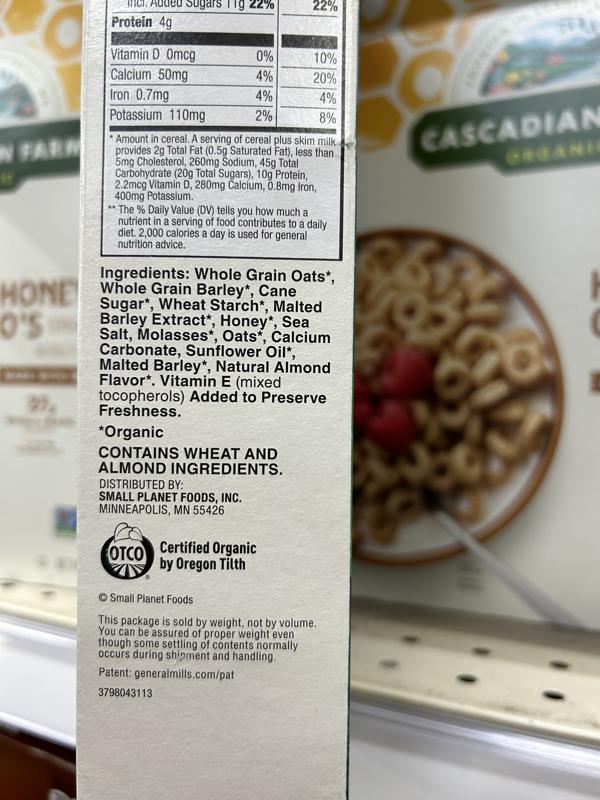ingredients: (95, 265, 335, 419)
